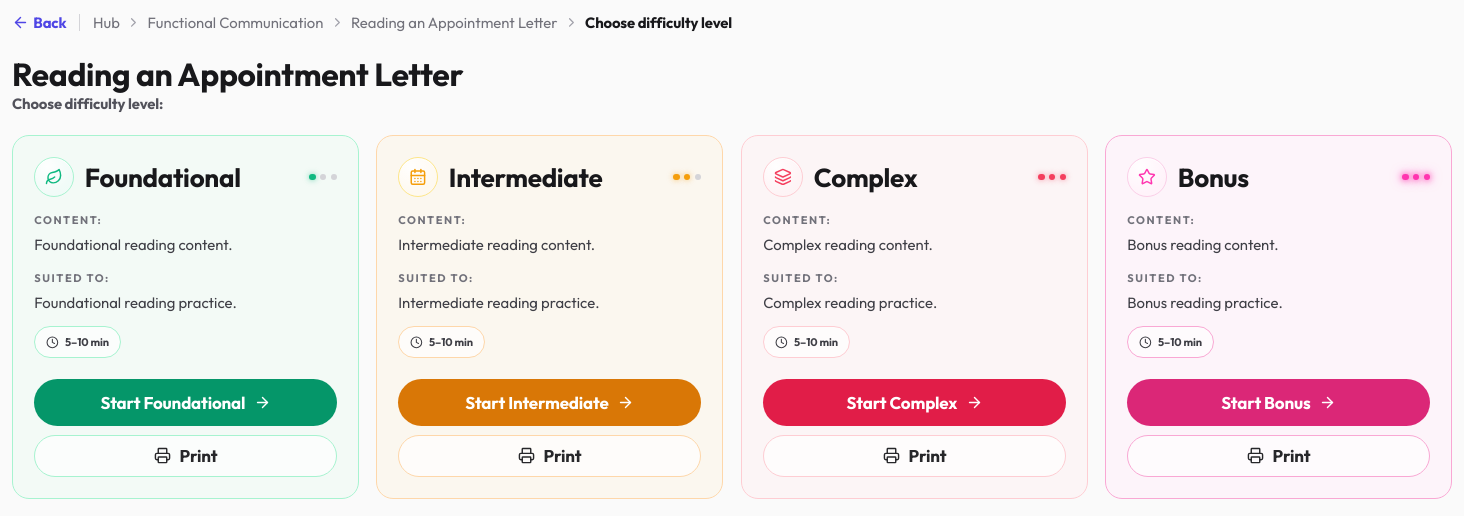
Test case: Legacy levelled-reading flow › moves from difficulty to item selection to split runtime and logs only the synthetic item identity
Later steps or results of the test are not shown.
Click the button with test id "difficulty-green" at (186, 403), box [34, 380, 337, 426]
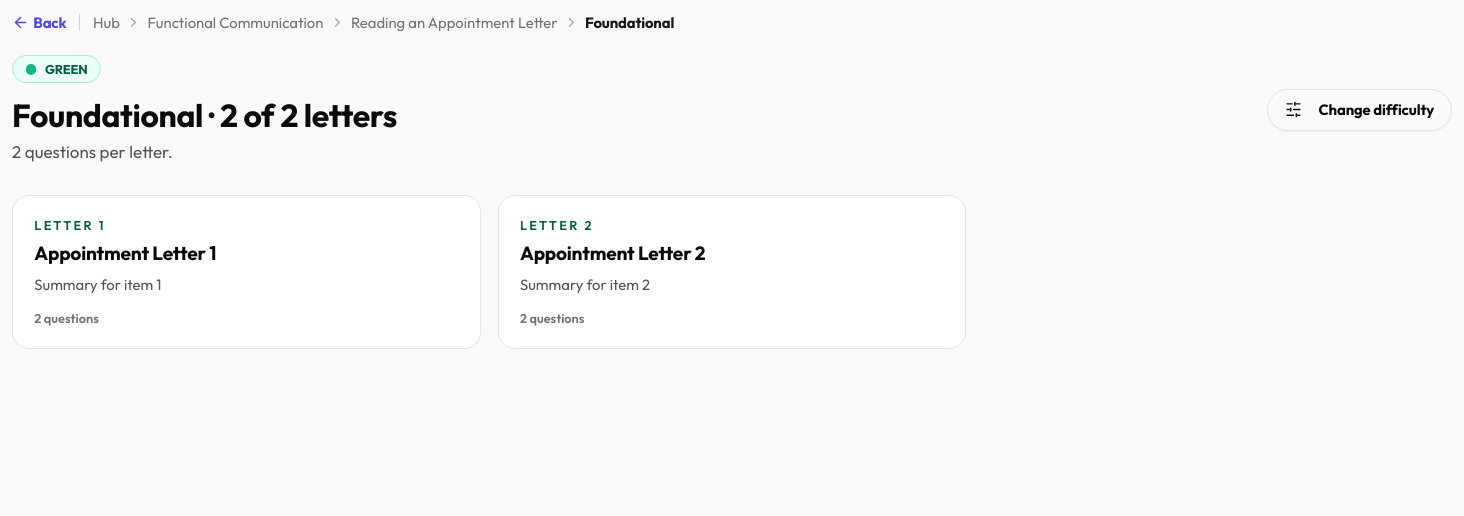
Check: the element with test id "letter-picker" shows "Foundational · 2 of 2 letters", box [12, 54, 1452, 349]
Check: the button with test id "letter-1" shows "Letter 1", box [12, 195, 481, 349]
